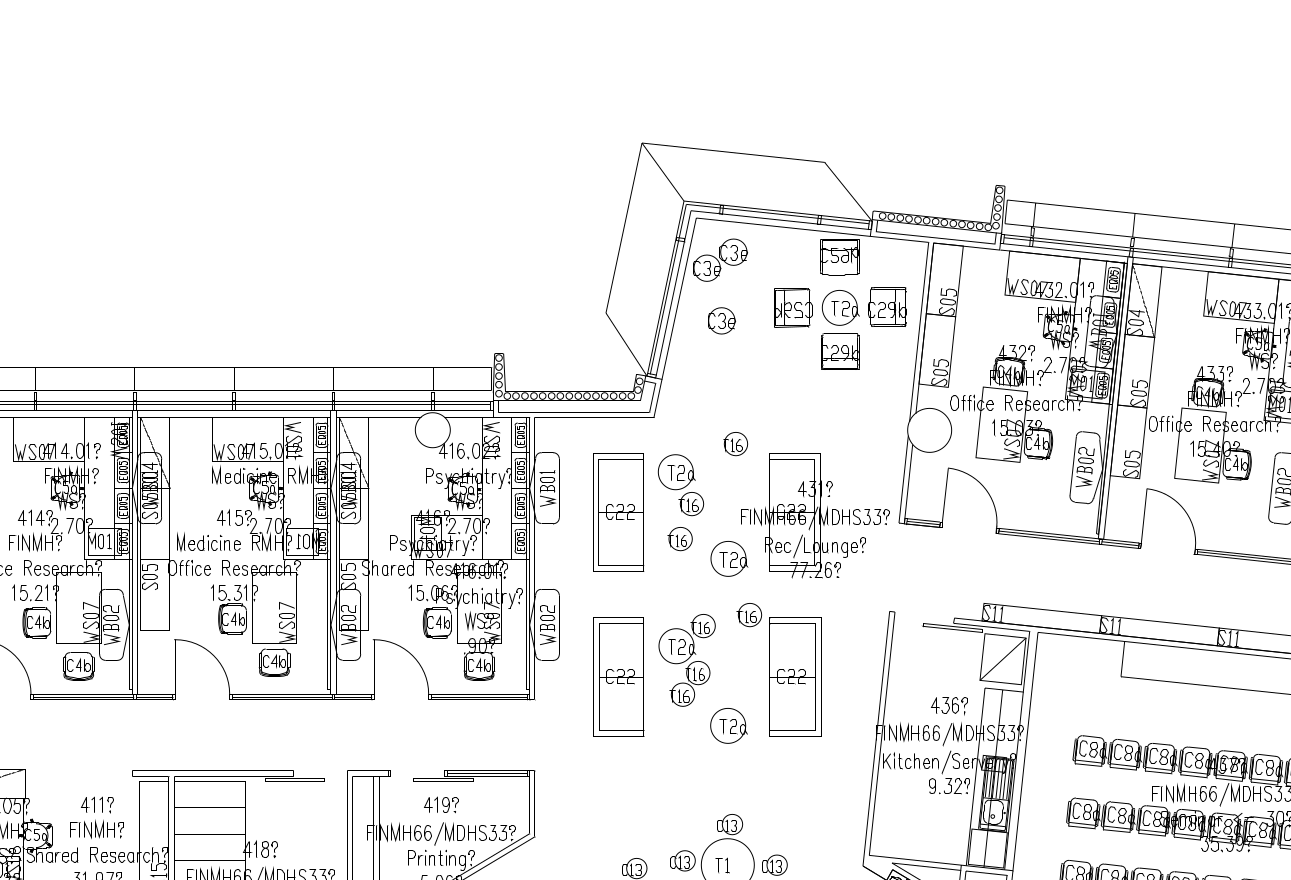door: (165, 636, 232, 729), (365, 635, 432, 728), (934, 463, 1001, 556), (1135, 482, 1202, 575)
